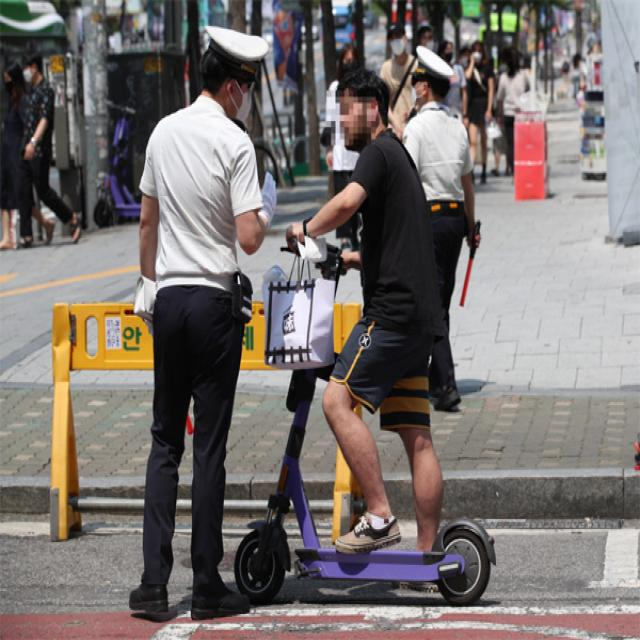non-helmet: (230, 70, 506, 616)
